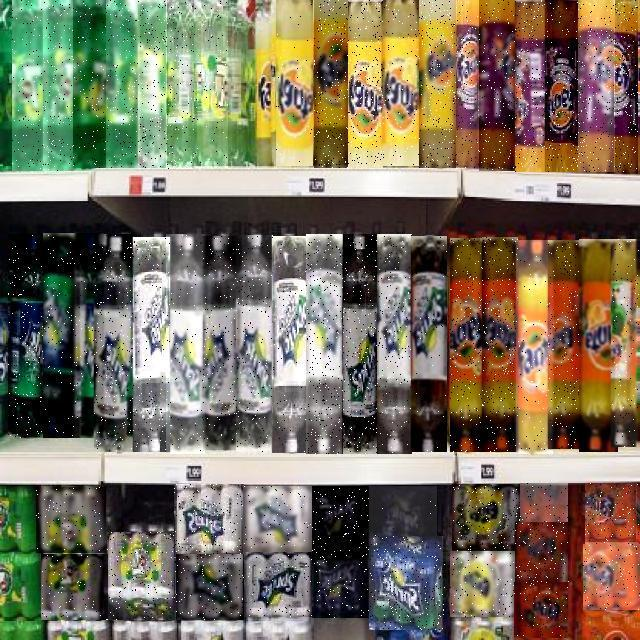Drinks: (94, 234, 134, 452), (166, 234, 205, 454), (203, 236, 242, 450), (579, 239, 618, 452), (306, 234, 343, 454), (236, 236, 273, 454), (133, 237, 170, 452), (342, 234, 378, 454), (516, 240, 553, 454), (272, 236, 308, 453), (411, 236, 447, 452), (8, 234, 46, 438), (482, 237, 518, 452), (377, 234, 412, 454), (44, 233, 80, 438), (450, 239, 484, 453), (370, 536, 446, 630), (549, 240, 583, 449), (515, 0, 552, 172), (578, 0, 615, 172), (479, 0, 516, 171), (419, 0, 456, 168), (12, 0, 48, 171), (276, 0, 313, 166), (107, 532, 176, 620), (383, 0, 419, 166), (348, 0, 383, 168), (545, 0, 579, 172), (612, 239, 640, 447), (73, 0, 107, 168), (106, 0, 140, 168), (194, 0, 228, 168), (314, 0, 348, 168), (79, 233, 105, 438), (43, 0, 74, 171), (174, 484, 244, 558), (138, 1, 167, 169), (166, 0, 194, 169), (452, 485, 520, 553), (36, 487, 106, 553), (243, 486, 312, 552), (176, 554, 244, 620), (243, 552, 312, 617), (42, 554, 108, 620), (312, 486, 370, 560), (450, 551, 515, 617), (614, 0, 638, 174), (456, 0, 479, 169), (583, 544, 640, 610), (312, 556, 370, 618), (369, 486, 437, 536), (586, 484, 640, 546), (516, 523, 570, 583), (514, 582, 568, 638), (521, 483, 569, 522)
